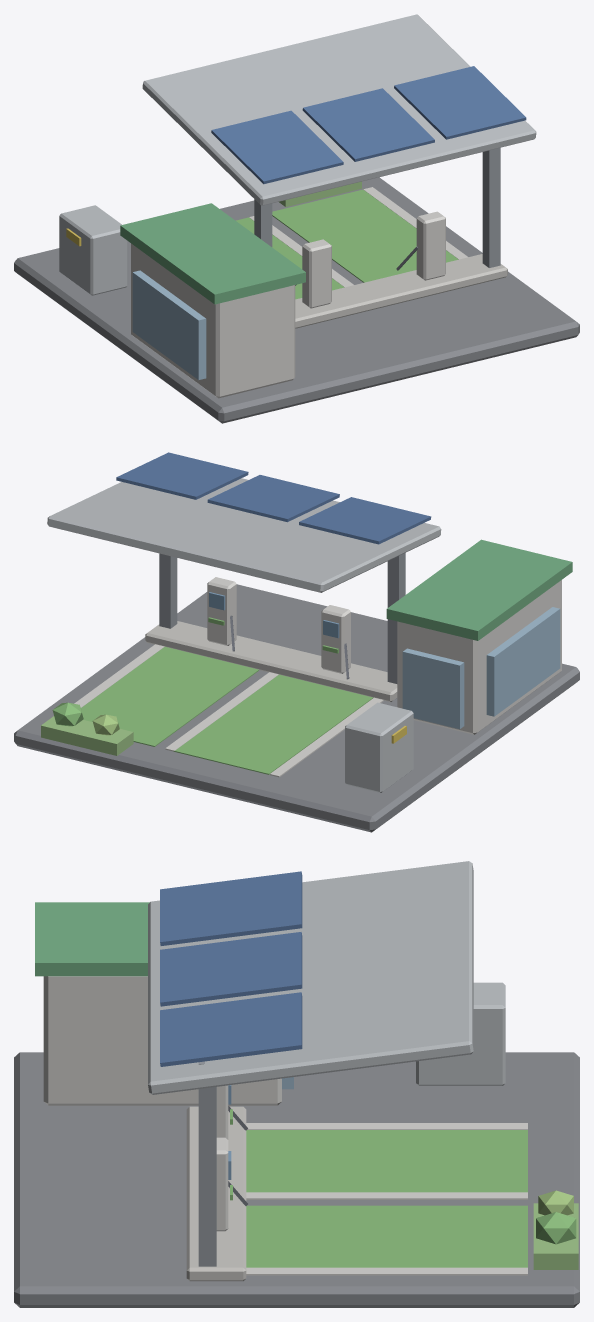
File: comercial__posto_recarga.glb
3 views of the same model, one above another, from view 1: azimuth 30°, elevation 25°; view 2: azimuth 150°, elevation 25°; view 3: azimuth 270°, elevation 25° (orthographic). The views are drawn at different scales.
Visible parts, largest first — view 1: comercial__posto_recarga; view 2: comercial__posto_recarga; view 3: comercial__posto_recarga.
Boxes of the visible parts, x1=… form: comercial__posto_recarga: x1=14, y1=14, x2=579, y2=423; comercial__posto_recarga: x1=14, y1=452, x2=579, y2=832; comercial__posto_recarga: x1=14, y1=861, x2=579, y2=1307.
Size of the model in its own units: 1.93 by 1 by 1.9.
